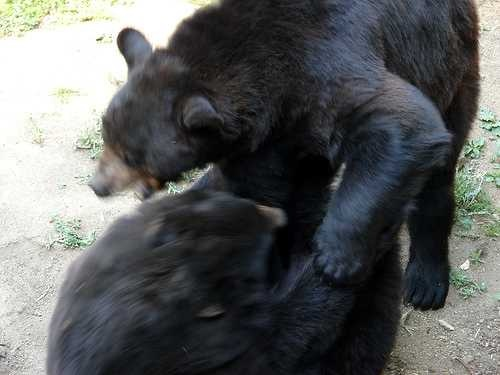bear: (80, 76, 208, 204)
